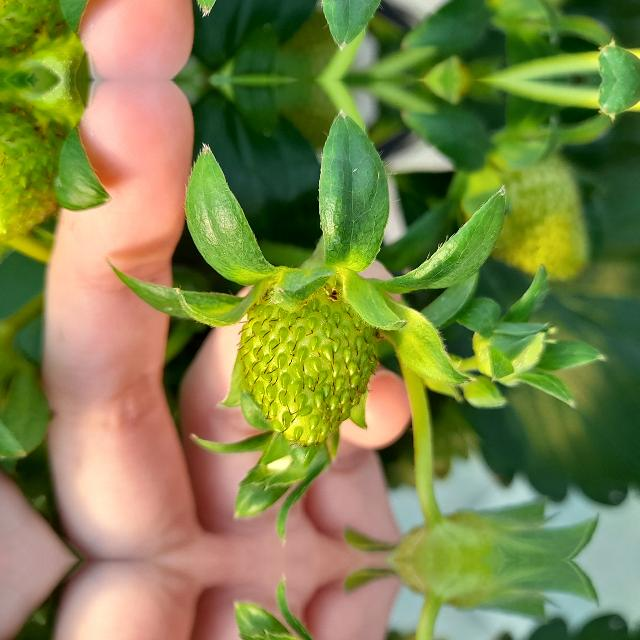Health_25: (236, 284, 380, 448)
